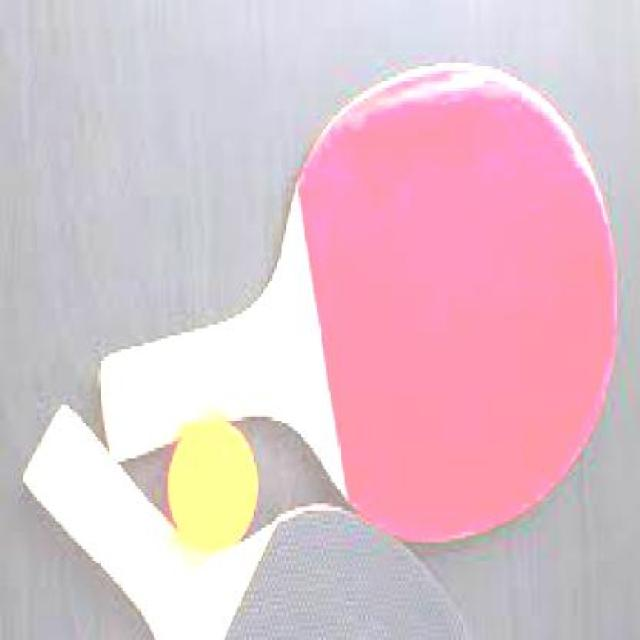table_tennis_racket: (282, 57, 636, 546), (156, 514, 501, 637)
